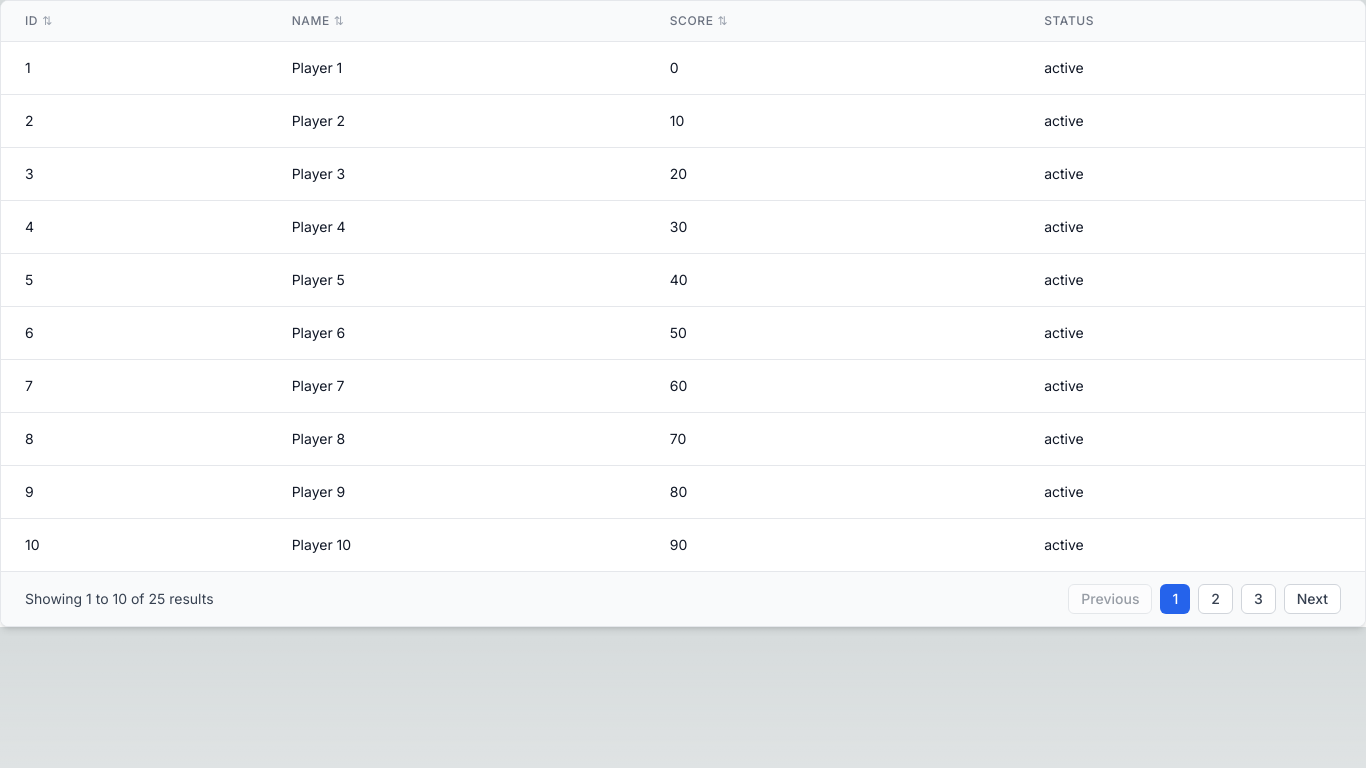
Test: DataTable › should navigate between pages
This screenshot has width=1366, height=768.
Expected: the text "Player 1" is shown, [268,42,646,94]
Expected: the text "Player 11" is not shown
// Click next page
Click the button "Next" at (1312, 599), box [1284,584,1341,614]
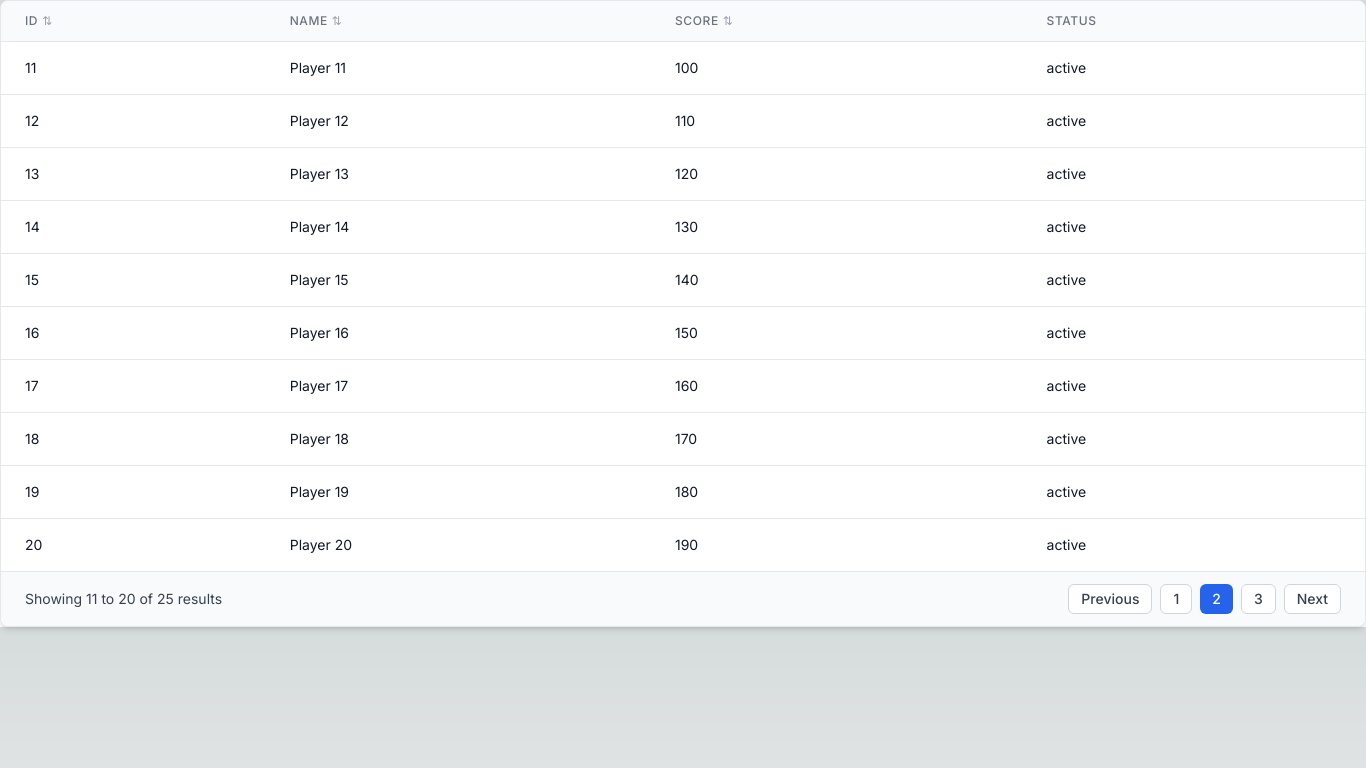
Now the text "Player 11" is shown, box [266,42,651,94]
